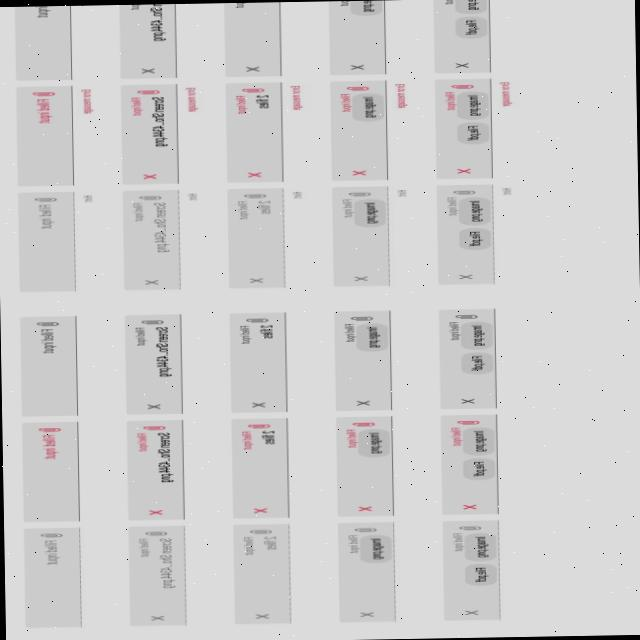VFileInput: (12, 84, 96, 185), (118, 82, 200, 184), (222, 80, 304, 182), (120, 188, 201, 290), (225, 186, 306, 288), (328, 184, 409, 286), (434, 182, 515, 284), (328, 78, 408, 180), (432, 76, 512, 178), (17, 189, 96, 291), (20, 525, 86, 627), (121, 312, 186, 414), (332, 414, 397, 516), (124, 418, 188, 520), (226, 310, 290, 412), (231, 522, 295, 624), (439, 518, 503, 620), (19, 420, 83, 521), (126, 524, 190, 625), (228, 417, 292, 518), (436, 307, 500, 408), (438, 413, 502, 514), (332, 309, 394, 411), (336, 520, 398, 622), (18, 314, 80, 415), (117, 3, 197, 78), (220, 1, 300, 76), (11, 5, 90, 80), (325, 0, 405, 73), (430, 0, 510, 72)
